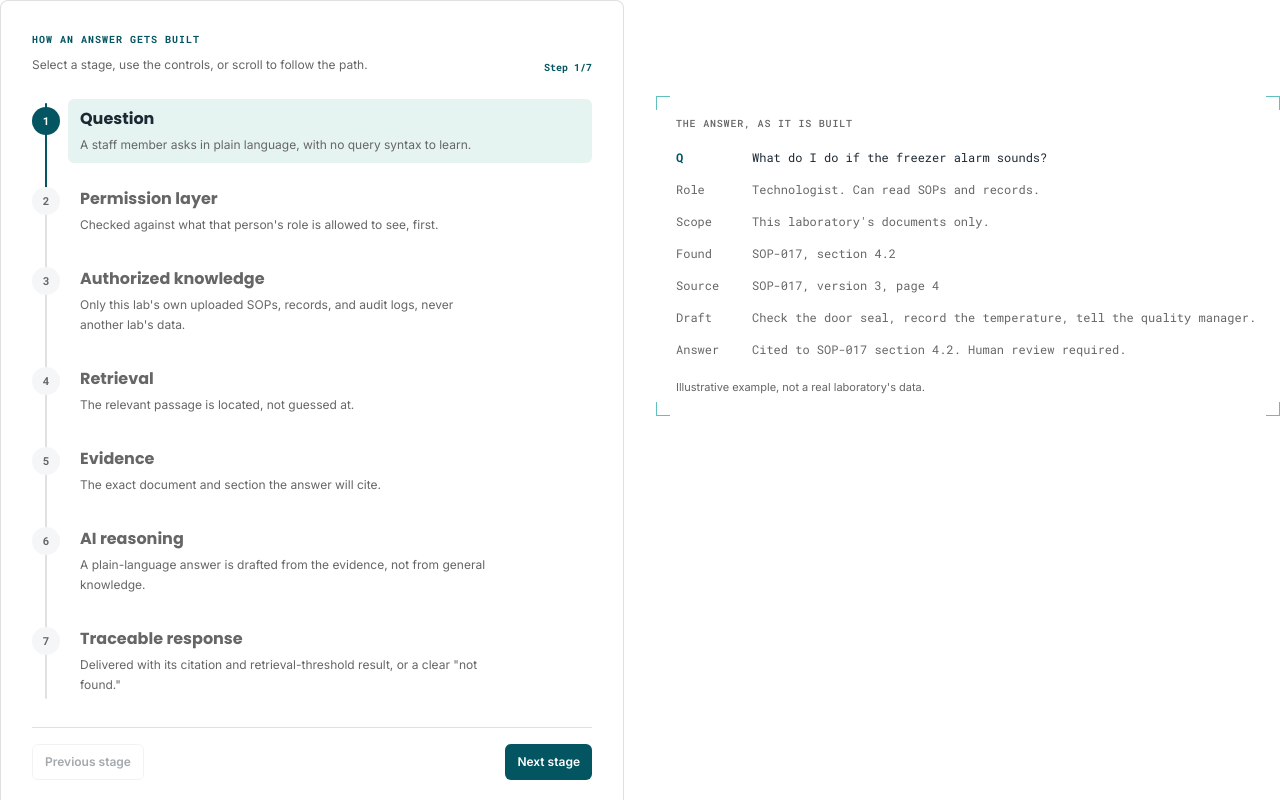
Test: interactive product illustrations › lets visitors move directly through the retrieval pipeline
Step 1. Click the button with test id "pipeline-step-4" → (117, 378), box [68,359,592,423]
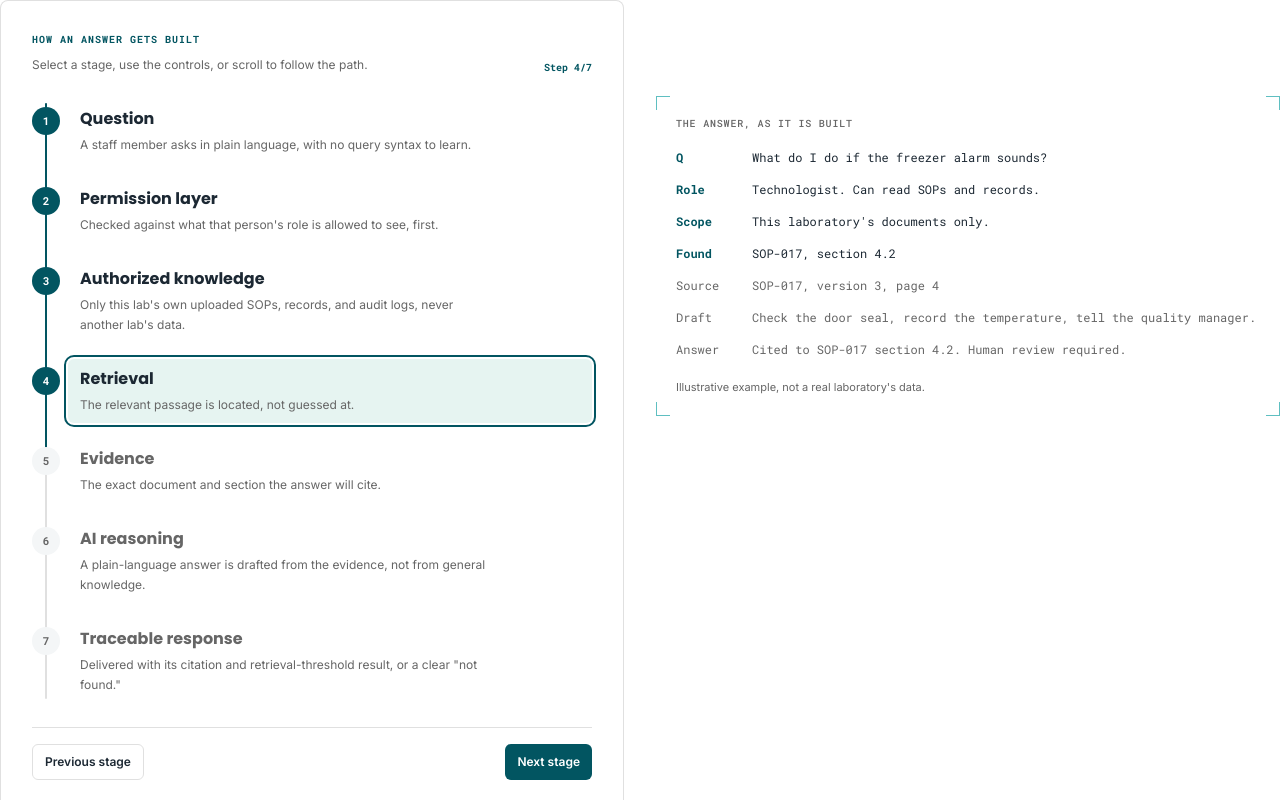
Check: the text with test id "pipeline-progress" reads "Step 4/7", box [544,60,592,75]
Step 2. Click the button "Next stage" → (549, 762), box [505,744,592,780]
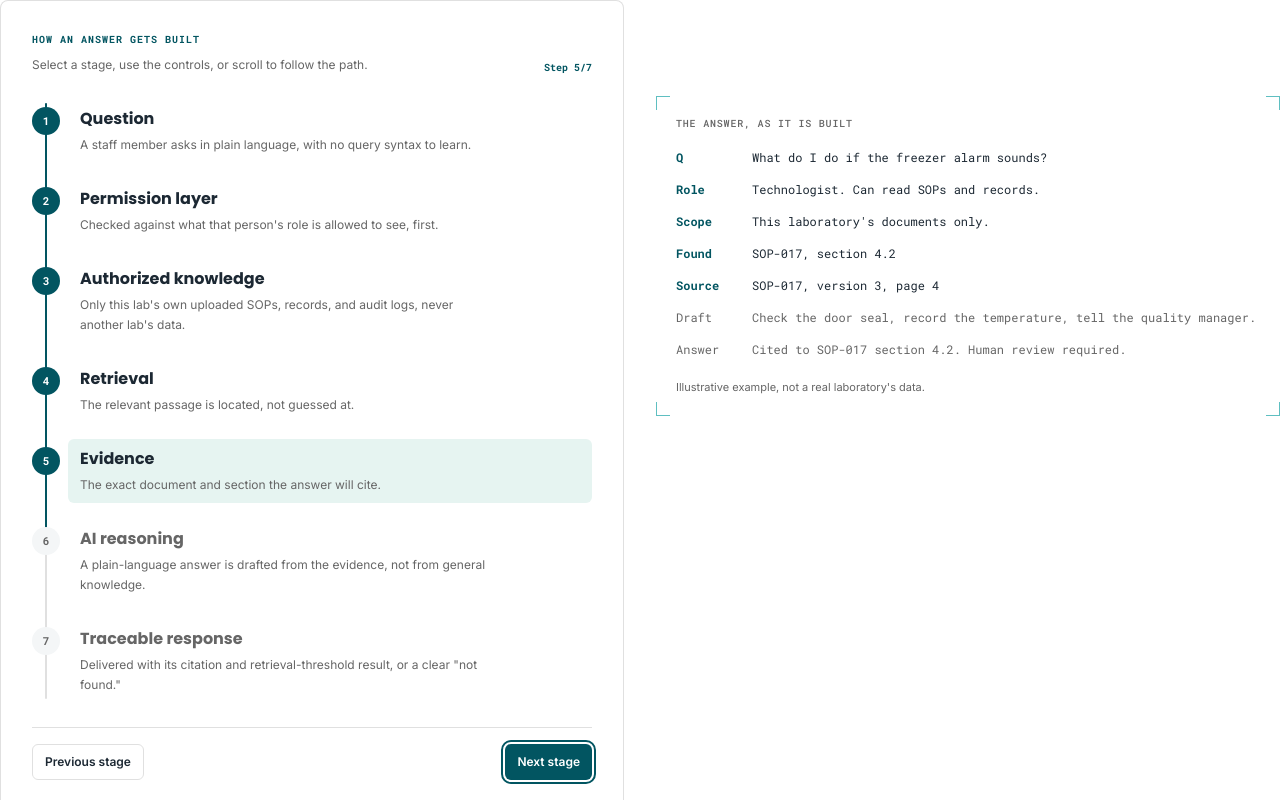
Check: the text with test id "pipeline-progress" reads "Step 5/7", box [544,60,592,75]
